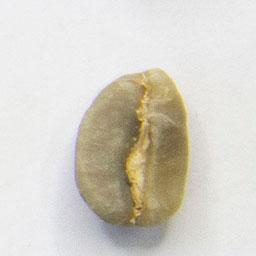longberry: (70, 63, 193, 230)
